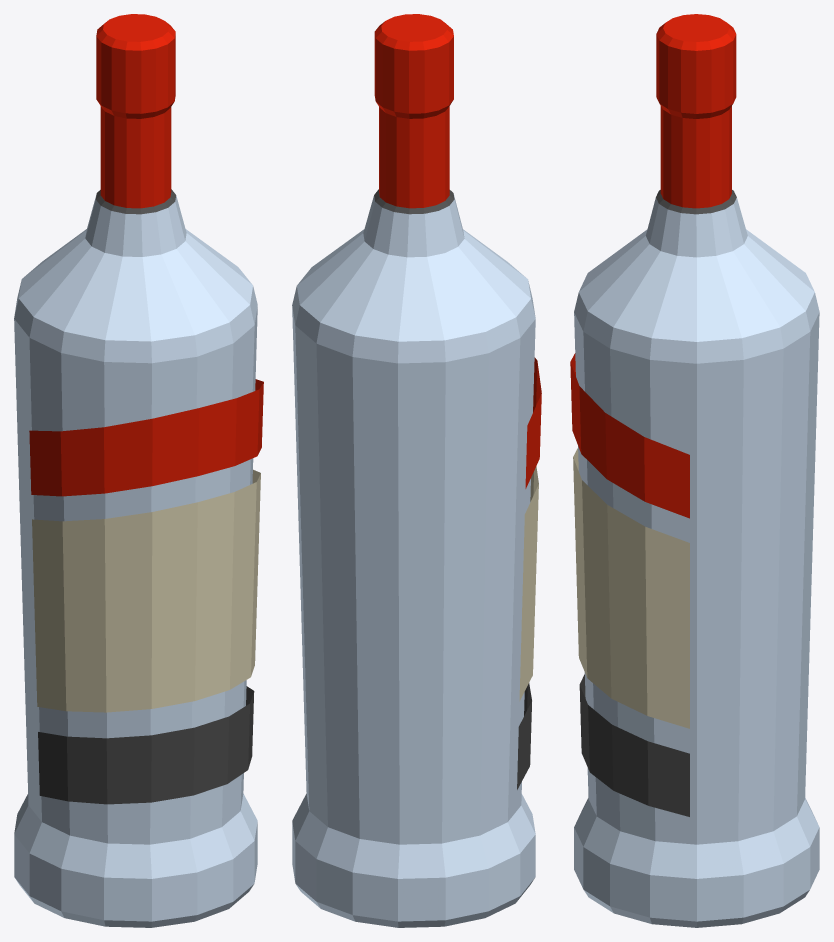
Rendered from Vodka.fbx.
The picture shows the model from 3 angles, left to right: view 1: azimuth 30°, elevation 25°; view 2: azimuth 150°, elevation 25°; view 3: azimuth 270°, elevation 25°; orthographic projection.
Visible parts, largest first — view 1: Circle; view 2: Circle; view 3: Circle.
Boxes of the visible parts, bbox=[...] form: Circle: bbox=[14, 14, 263, 927]; Circle: bbox=[292, 14, 541, 927]; Circle: bbox=[570, 14, 819, 927].
Size of the model in its own units: 200 by 739 by 196.
